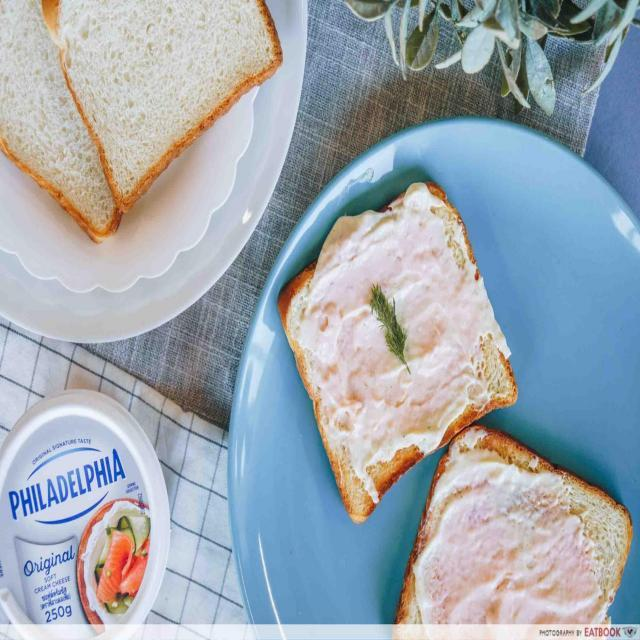Spread: (288, 200, 496, 460), (426, 464, 596, 640)
